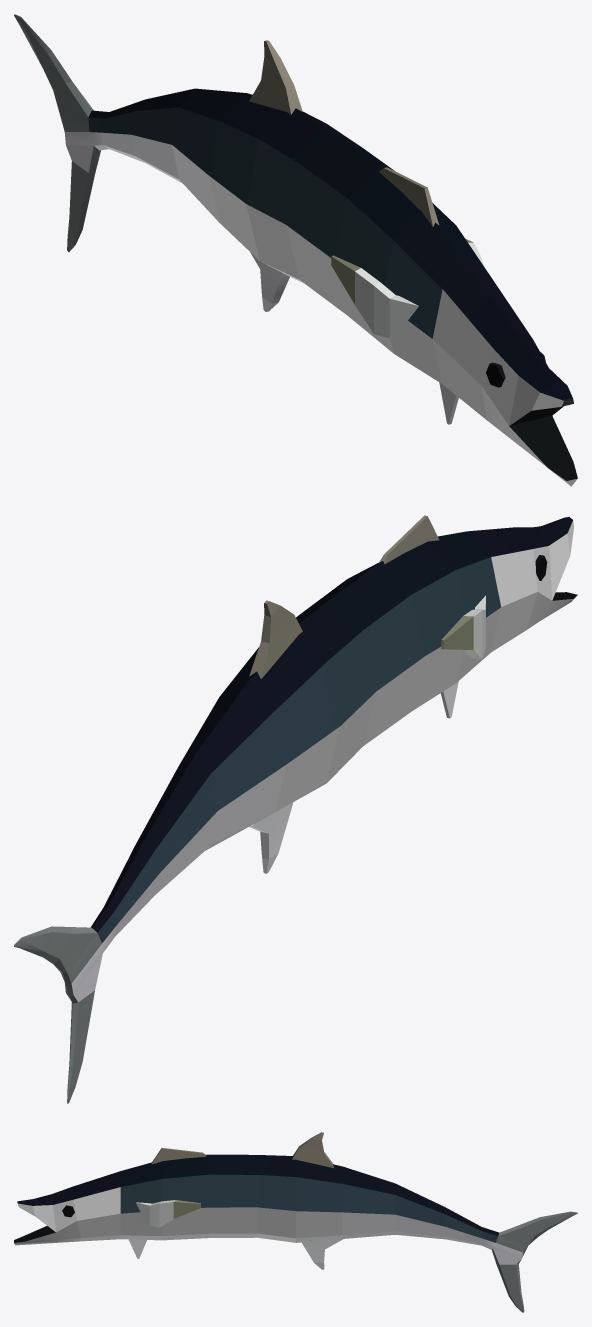
The model's file is animals-kingfish-136.glb.
The picture shows the model from 3 angles, top to bottom: view 1: azimuth 30°, elevation 25°; view 2: azimuth 150°, elevation 25°; view 3: azimuth 270°, elevation 25°; orthographic projection. The views are drawn at different scales.
Visible parts, largest first — view 1: Geo_Kingfish; view 2: Geo_Kingfish; view 3: Geo_Kingfish.
Part boxes in pixels (<box>): Geo_Kingfish: <box>14,14,577,486</box>; Geo_Kingfish: <box>14,515,577,1103</box>; Geo_Kingfish: <box>14,1132,577,1312</box>.
Size of the model in its own units: 17.26 by 49.51 by 140.
Materials: 1 (1 with a texture image).
